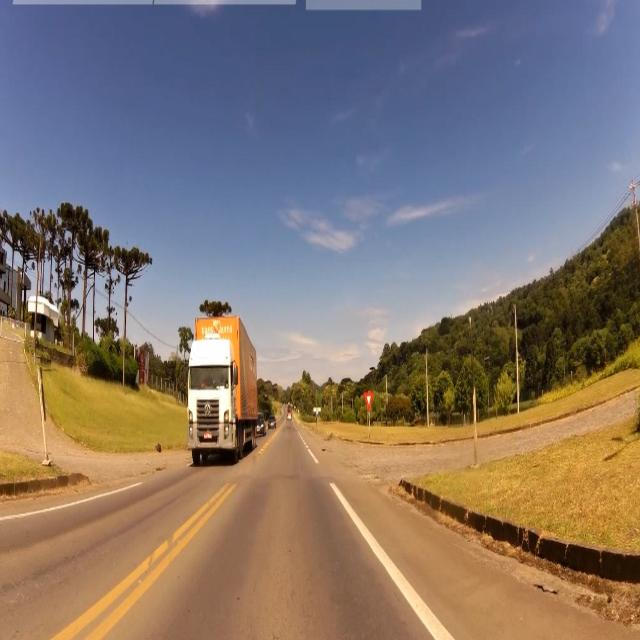R-1: (363, 390, 374, 415)
